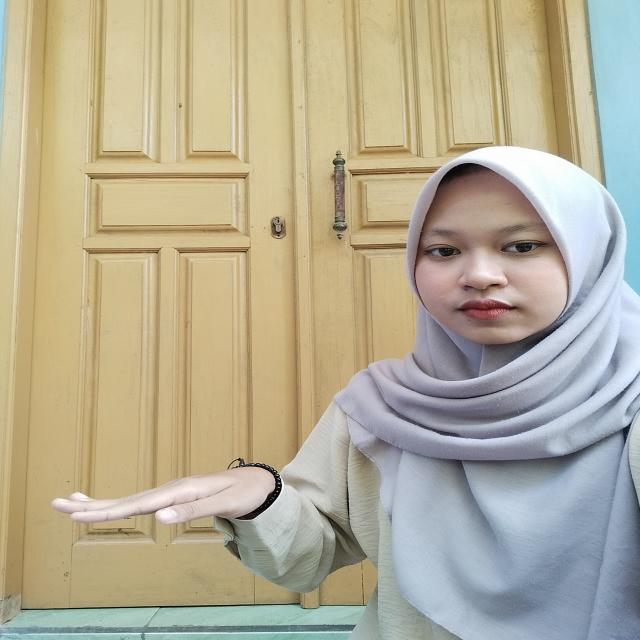adik: (35, 450, 308, 590)
